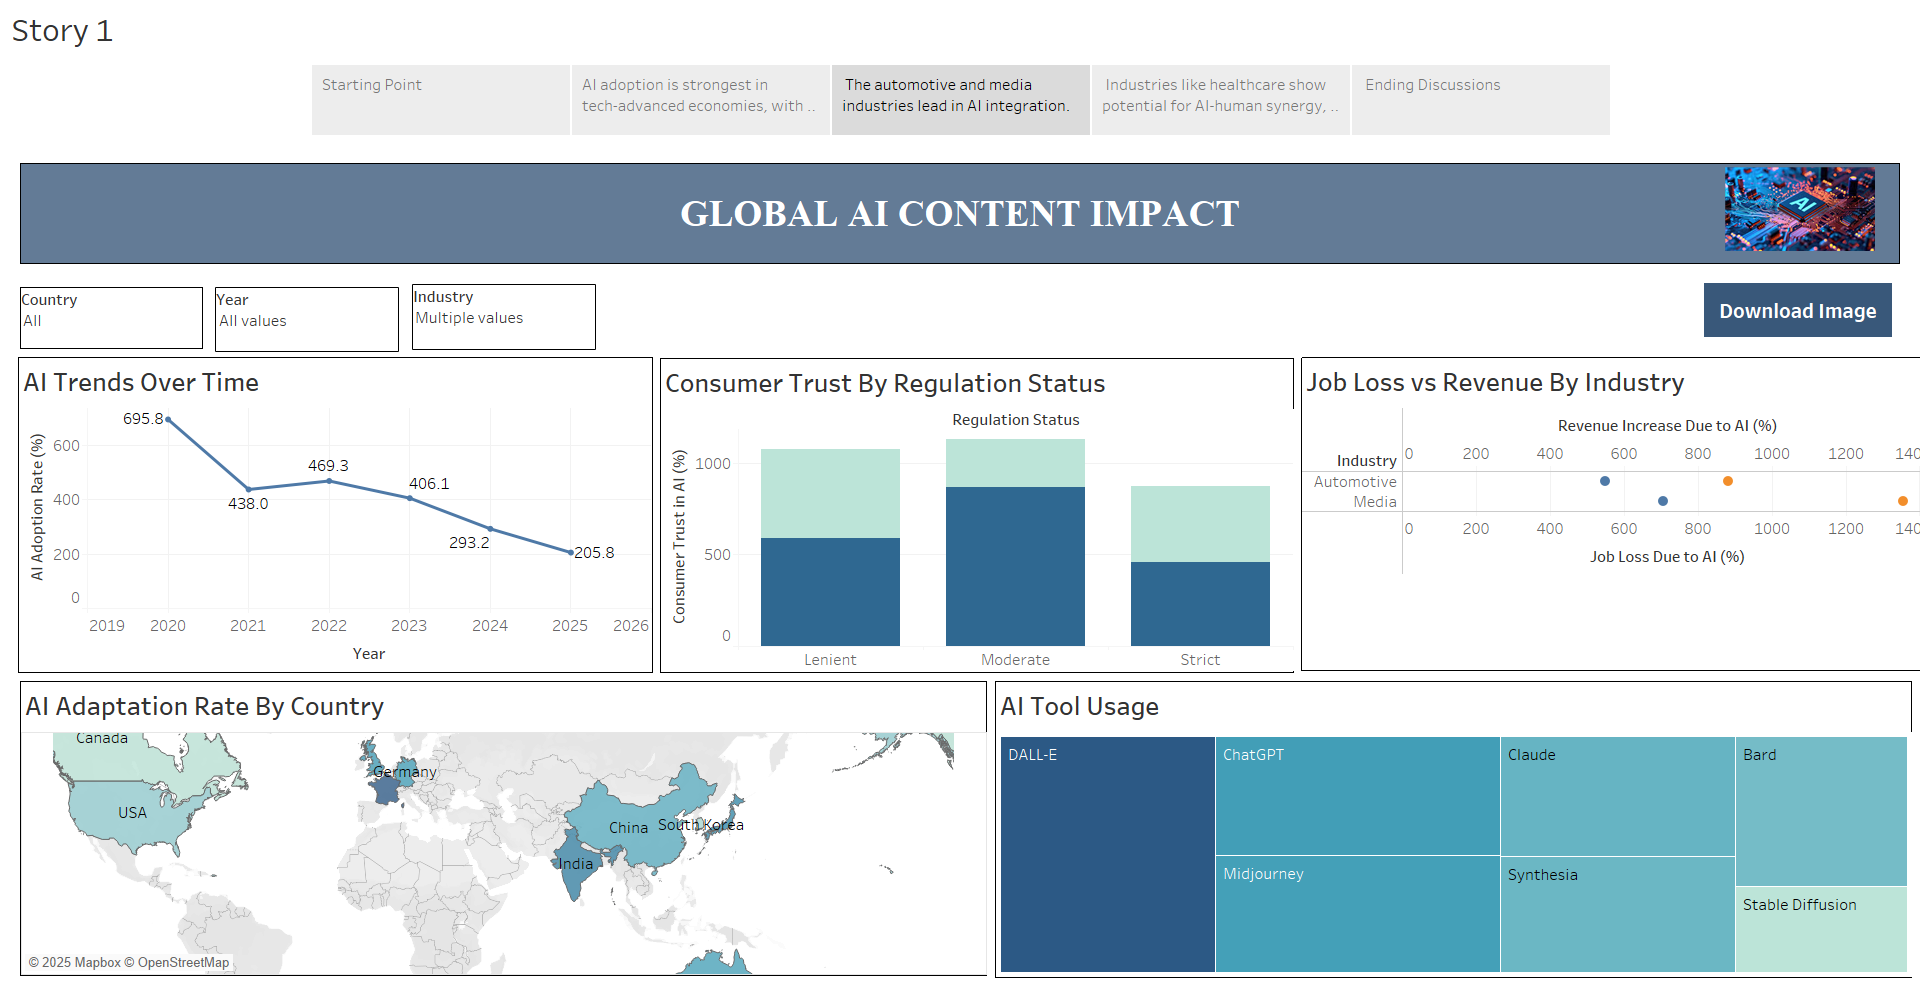

What the dashboard file says about the page in this screenshot:
{"tool":"tableau","page":{"name":"Dashboard 1","canvas":[1000,1000],"units":"permille","ordinal":0},"visuals":[{"type":"title","box":[4.8,10,990.3,136.1]},{"type":"image","param":"Image/AI Image.jpg","box":[901.6,18.7,89.3,101.1]},{"type":"filter","title":"AI trends over time","param":"[federated.0b7zuio0kv5jrt15gwph313jt52r].[none:Industry:nk]","box":[212.4,159.8,96.6,78.7]},{"type":"filter","title":"AI adaptation rate by country","param":"[federated.0b7zuio0kv5jrt15gwph313jt52r].[none:Country:nk]","box":[6,163.6,96.6,73.7]},{"type":"filter","title":"AI trends over time","param":"[federated.0b7zuio0kv5jrt15gwph313jt52r].[none:Year:qk]","box":[108.6,163.6,96.6,77.4]},{"type":"worksheet","title":"AI trends over time","mark":"Automatic","rows":["AI Adoption Rate (%)"],"cols":["Year"],"box":[5.4,247.2,333.1,378.3]},{"type":"worksheet","title":"consumer trust by regulation status","mark":"Automatic","rows":["Consumer Trust in AI (%)"],"cols":["Regulation Status"],"box":[342.2,248.4,333.1,377]},{"type":"worksheet","title":"AI adaptation rate by country","mark":"Automatic","box":[6,635.5,508.2,353.3]},{"type":"worksheet","title":"AI Tool usage","mark":"Automatic","box":[518.4,635.5,481.6,355.8]}]}

Visuals, with their boxes on the dashboard's canvas, which has no fixed pixel size, in thousandths of its width and height (x1, y1, x2, y2). These are canvas units, not pixel positions in the 1920x993 screenshot, which may show the page scaled, cropped or inside an application window:
title: locate(5, 10, 995, 146)
image: locate(902, 19, 991, 120)
"AI trends over time" filter: locate(212, 160, 309, 238)
"AI adaptation rate by country" filter: locate(6, 164, 103, 237)
"AI trends over time" filter: locate(109, 164, 205, 241)
"AI trends over time" worksheet: locate(5, 247, 338, 626)
"consumer trust by regulation status" worksheet: locate(342, 248, 675, 625)
"AI adaptation rate by country" worksheet: locate(6, 636, 514, 989)
"AI Tool usage" worksheet: locate(518, 636, 1000, 991)
